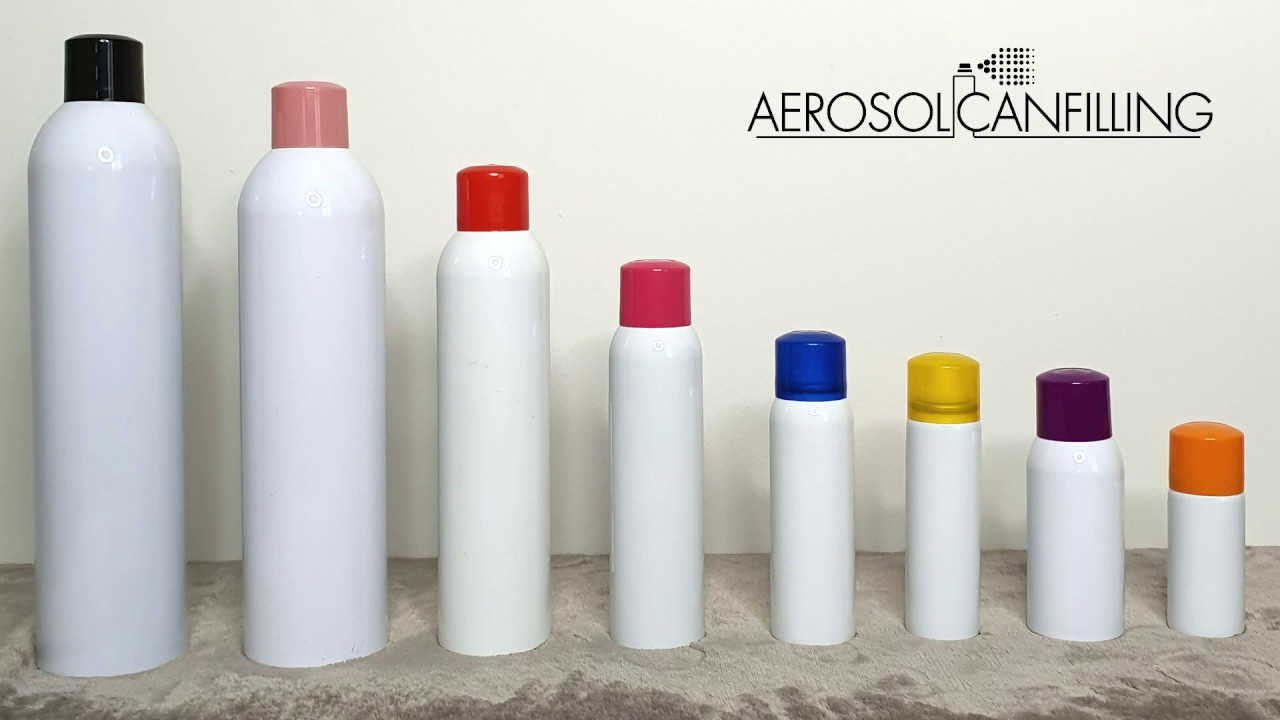Aerosol_cans: (25, 30, 186, 683), (233, 76, 394, 672), (433, 162, 557, 660), (604, 256, 707, 653), (1020, 365, 1131, 645), (767, 323, 859, 648), (900, 351, 987, 645), (1159, 416, 1251, 645)
